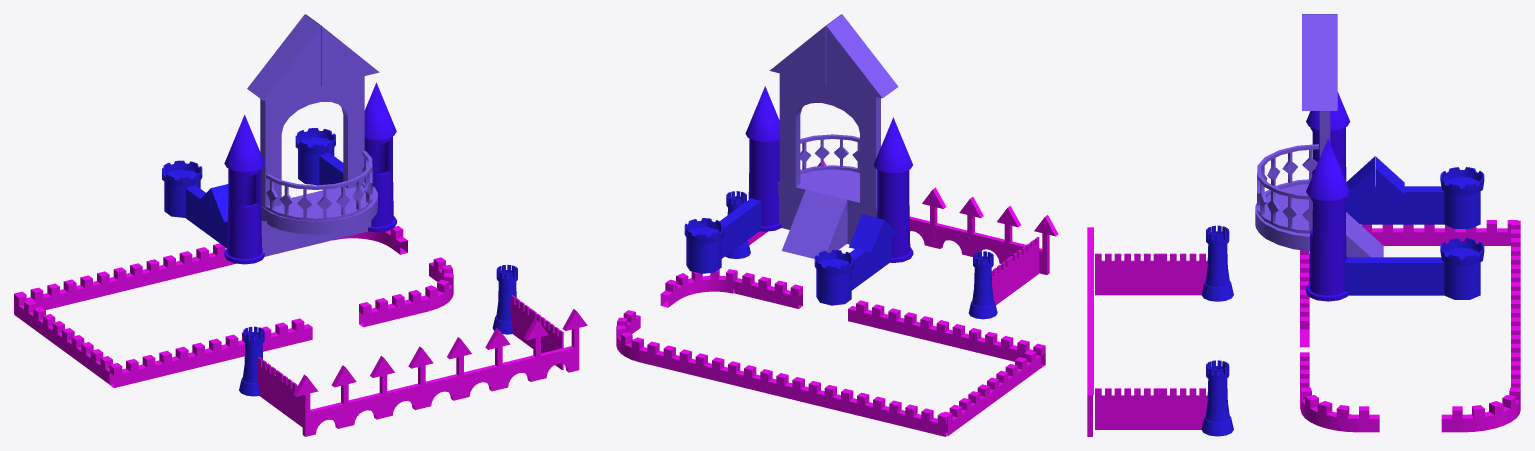
File: 2층과팬스.fbx
3 views of the same model, side by side, from view 1: azimuth 30°, elevation 25°; view 2: azimuth 150°, elevation 25°; view 3: azimuth 270°, elevation 25° (orthographic). The views are drawn at different scales.
Parts seen in each view (by area): view 1: Box599, Object055; view 2: Box599, Object055; view 3: Box599, Object055.
Boxes of the visible parts, bbox=[...] form: Box599: bbox=[14, 82, 587, 436]; Object055: bbox=[247, 14, 379, 256]; Box599: bbox=[616, 86, 1058, 436]; Object055: bbox=[769, 14, 898, 258]; Box599: bbox=[1087, 92, 1520, 436]; Object055: bbox=[1255, 14, 1383, 257].
Size of the model in its own units: 336 by 265 by 308.
